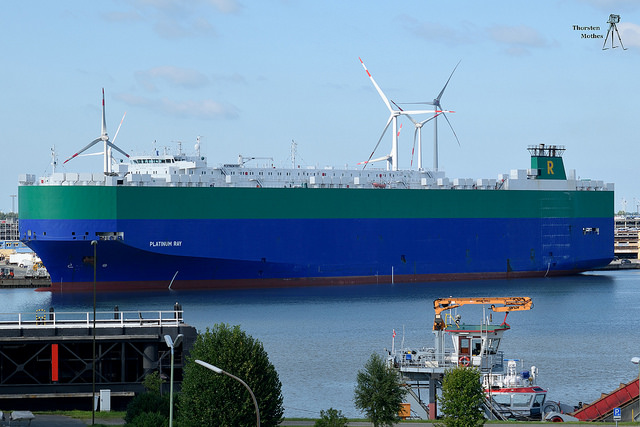PCC: (15, 147, 619, 286)
